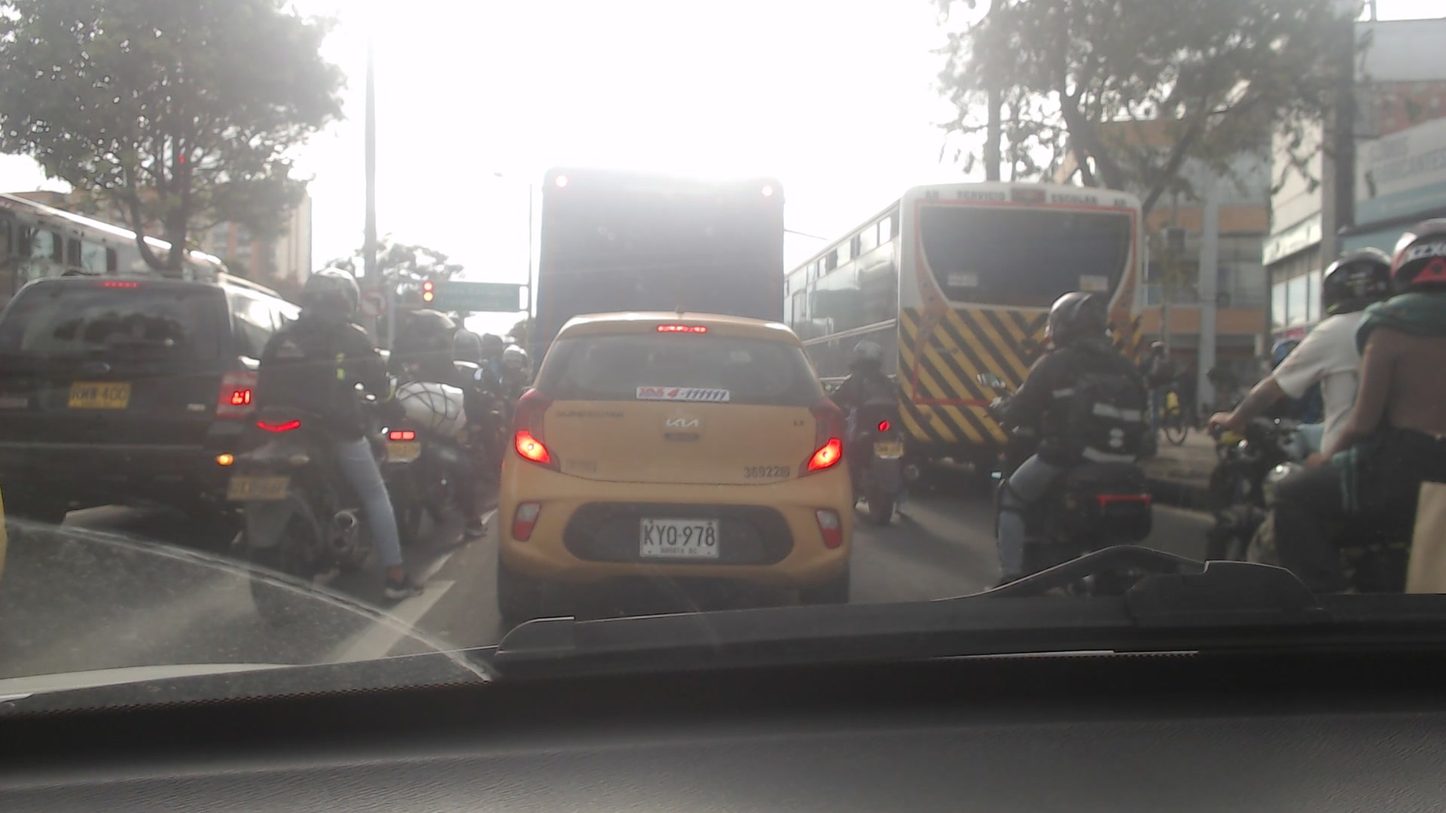bus: (766, 176, 1160, 464)
car: (494, 311, 860, 621), (0, 268, 304, 530)
motorcycle: (1182, 405, 1446, 600), (964, 377, 1158, 599), (208, 414, 398, 624), (355, 418, 485, 551), (839, 412, 916, 524)
person: (237, 270, 420, 604), (987, 292, 1153, 591), (1248, 250, 1395, 483), (365, 307, 494, 533), (1380, 210, 1446, 536), (840, 325, 915, 524)
truck: (529, 159, 789, 339)
